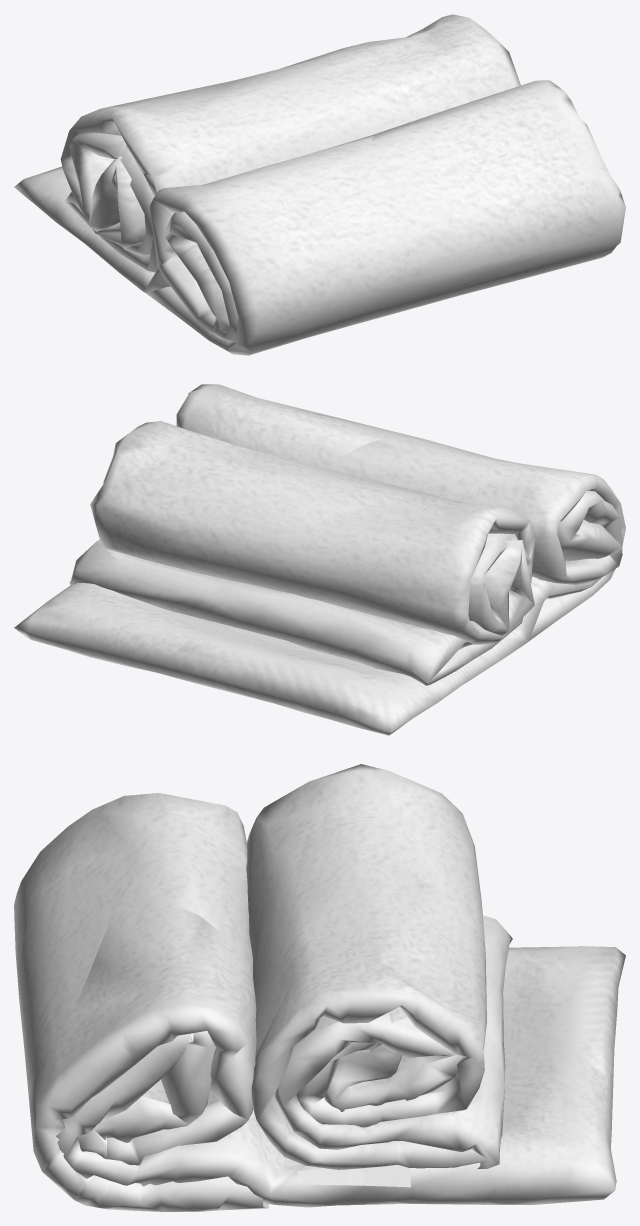
The model's file is SM_Towel_A2.fbx.
The picture shows the model from 3 angles, top to bottom: view 1: azimuth 30°, elevation 25°; view 2: azimuth 150°, elevation 25°; view 3: azimuth 270°, elevation 25°; orthographic projection. The views are drawn at different scales.
Visible parts, largest first — view 1: SM_Towel_A2; view 2: SM_Towel_A2; view 3: SM_Towel_A2.
Boxes of the visible parts, box(x1,y1,x2,y2) form: SM_Towel_A2: box(14, 14, 625, 355); SM_Towel_A2: box(14, 384, 625, 735); SM_Towel_A2: box(14, 764, 625, 1211).
Size of the model in its own units: 39.26 by 39.06 by 14.82.
1 material, 1 textured.
